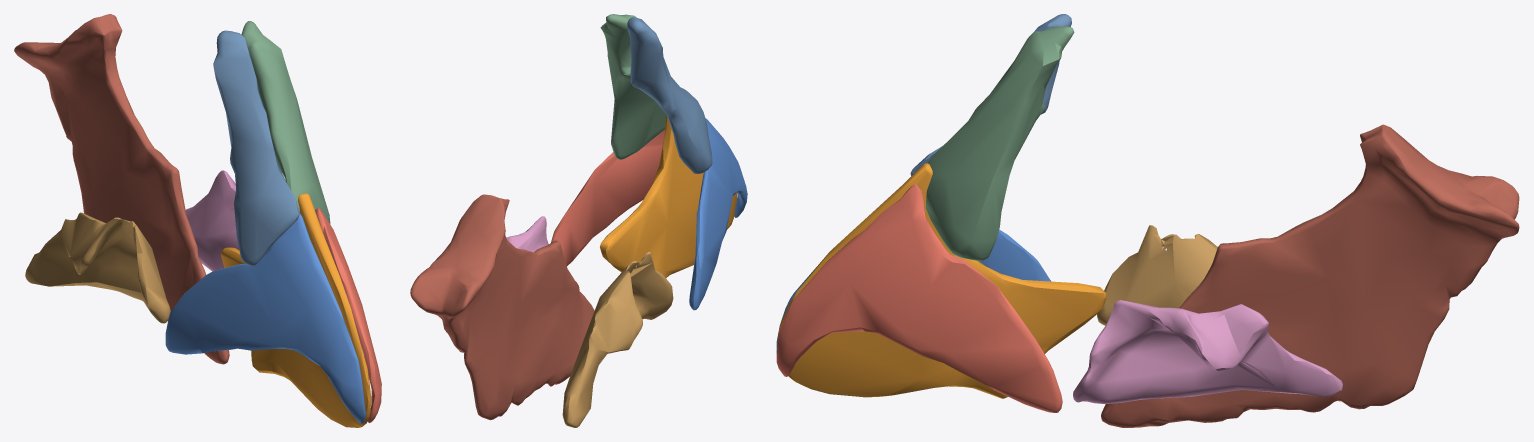
The model's file is nasal-septum.glb.
3 views of the same model, side by side, from view 1: azimuth 30°, elevation 25°; view 2: azimuth 150°, elevation 25°; view 3: azimuth 270°, elevation 25° (orthographic). The views are drawn at different scales.
Parts seen in each view (by area): view 1: Vomer, Right lateral nasal cartilage, Right nasal bone, Right inferior nasal concha, Septal nasal cartilage, Left nasal bone, Left inferior nasal concha, Left lateral nasal cartilage; view 2: Vomer, Septal nasal cartilage, Right inferior nasal concha, Left lateral nasal cartilage, Right nasal bone, Right lateral nasal cartilage, Left nasal bone, Left inferior nasal concha; view 3: Vomer, Left lateral nasal cartilage, Left inferior nasal concha, Septal nasal cartilage, Left nasal bone, Right inferior nasal concha, Right lateral nasal cartilage, Right nasal bone.
Boxes of the visible parts, x1,y1,x2,y2 form: Vomer: (14,14,229,364); Right lateral nasal cartilage: (165,214,366,423); Right nasal bone: (213,30,299,265); Right inferior nasal concha: (25,212,170,323); Septal nasal cartilage: (221,193,370,427); Left nasal bone: (241,21,330,223); Left inferior nasal concha: (185,170,239,271); Left lateral nasal cartilage: (315,208,381,422); Vomer: (410,194,594,420); Septal nasal cartilage: (600,116,737,278); Right inferior nasal concha: (562,252,673,427); Left lateral nasal cartilage: (551,129,664,265); Right nasal bone: (627,17,712,173); Right lateral nasal cartilage: (689,118,747,310); Left nasal bone: (600,14,666,159); Left inferior nasal concha: (506,216,548,252); Vomer: (1101,124,1519,427); Left lateral nasal cartilage: (776,183,1062,412); Left inferior nasal concha: (1073,300,1342,403); Septal nasal cartilage: (777,163,1106,398); Left nasal bone: (926,26,1074,260); Right inferior nasal concha: (1097,225,1217,325); Right lateral nasal cartilage: (776,230,1051,354); Right nasal bone: (910,14,1071,176).
Bounding box in the file's own units: 0.6647 × 1.21 × 2.
